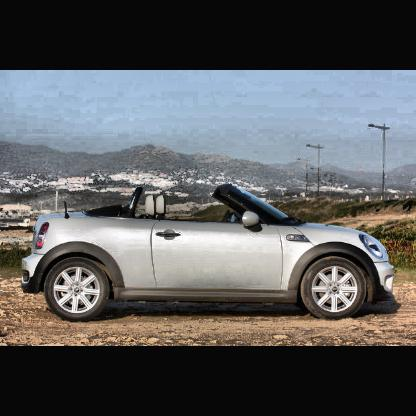MINI Cooper Roadster Convertible 2012: (24, 184, 395, 320)
